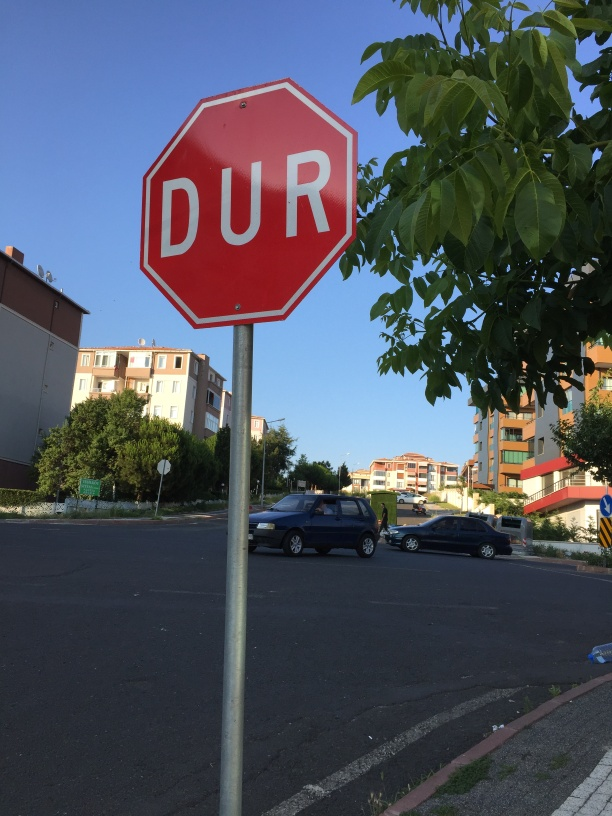arac_dur_isareti: (120, 33, 366, 545)
